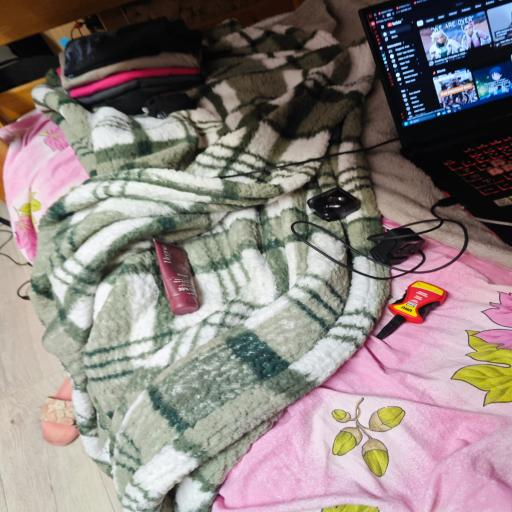Hand Cream: (150, 236, 202, 315)
Super Glue: (376, 277, 447, 341)
